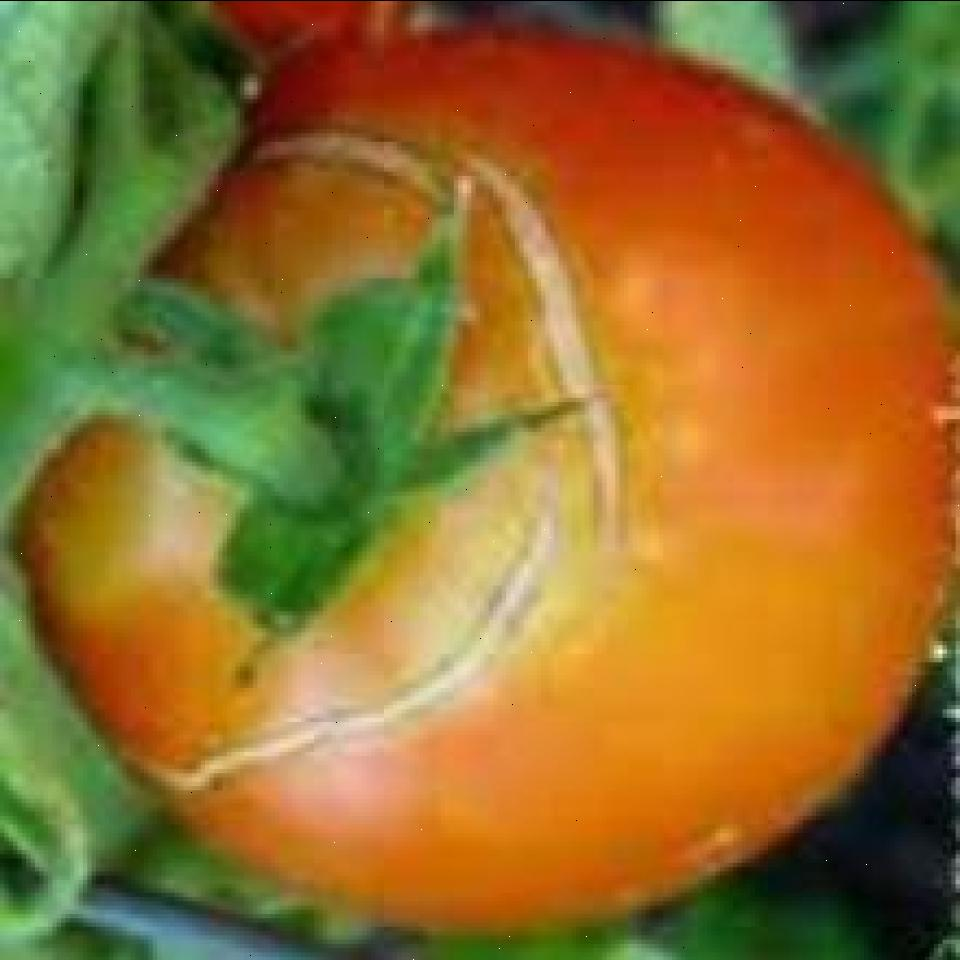Cracking: (103, 513, 619, 824), (449, 96, 611, 600), (153, 96, 473, 264)
